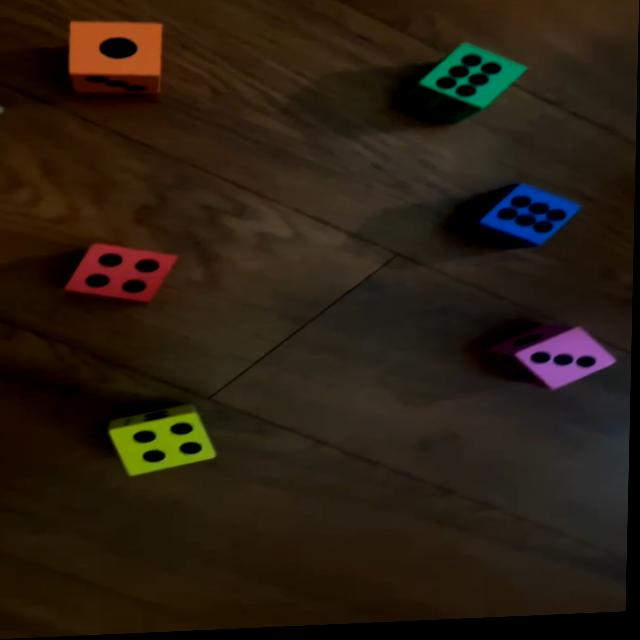blue_block: (456, 187, 579, 255)
red_block: (66, 243, 181, 307)
